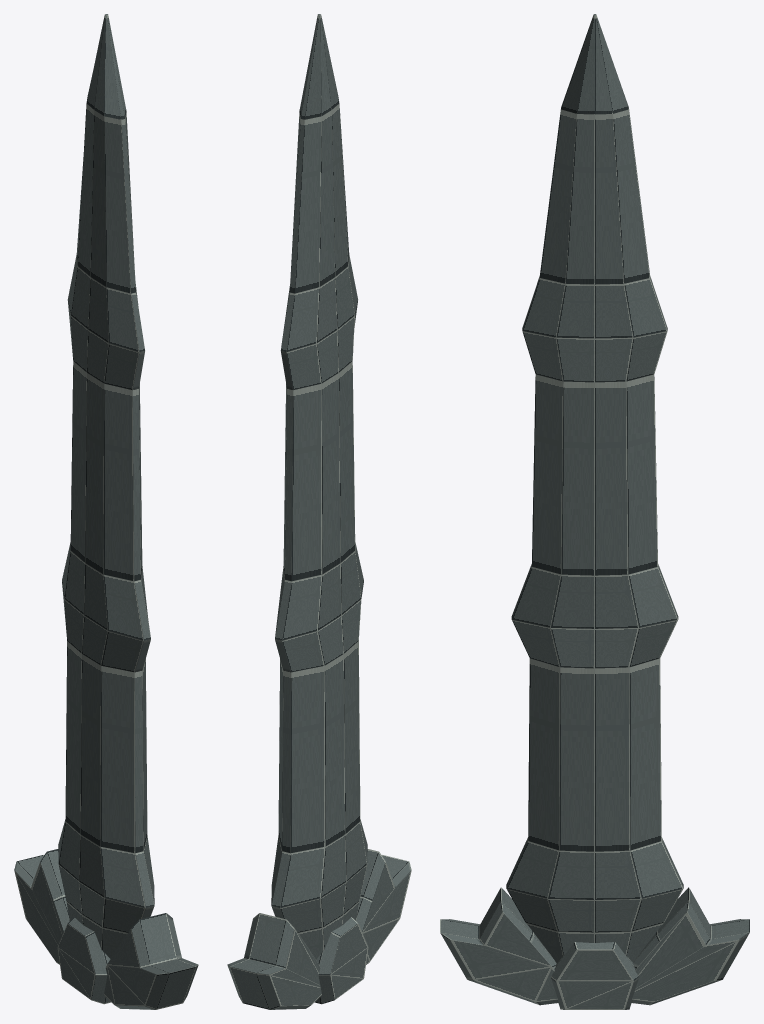
The model's file is workpiece_chilian_lihuo_sword_shaped.obj.
The picture shows the model from 3 angles, left to right: view 1: azimuth 30°, elevation 25°; view 2: azimuth 150°, elevation 25°; view 3: azimuth 270°, elevation 25°; orthographic projection.
Parts seen in each view (by area): view 1: geometry; view 2: geometry; view 3: geometry.
Boxes of the visible parts, x1,y1,x2,y2 form: geometry: (14, 14, 198, 1009); geometry: (227, 14, 411, 1009); geometry: (440, 14, 749, 1009).
Size of the model in its own units: 0.0825 by 1.28 by 0.365.
